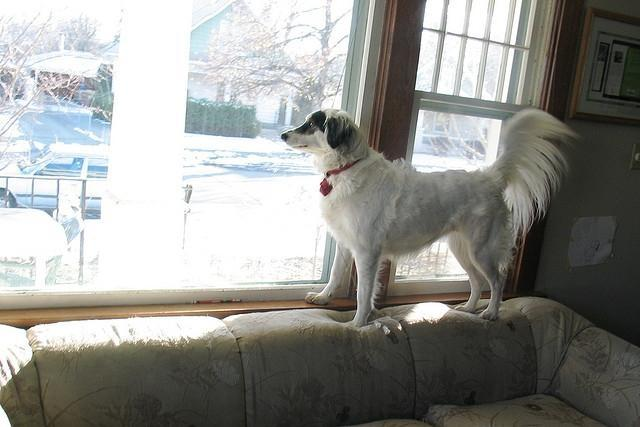car: (0, 151, 192, 223)
